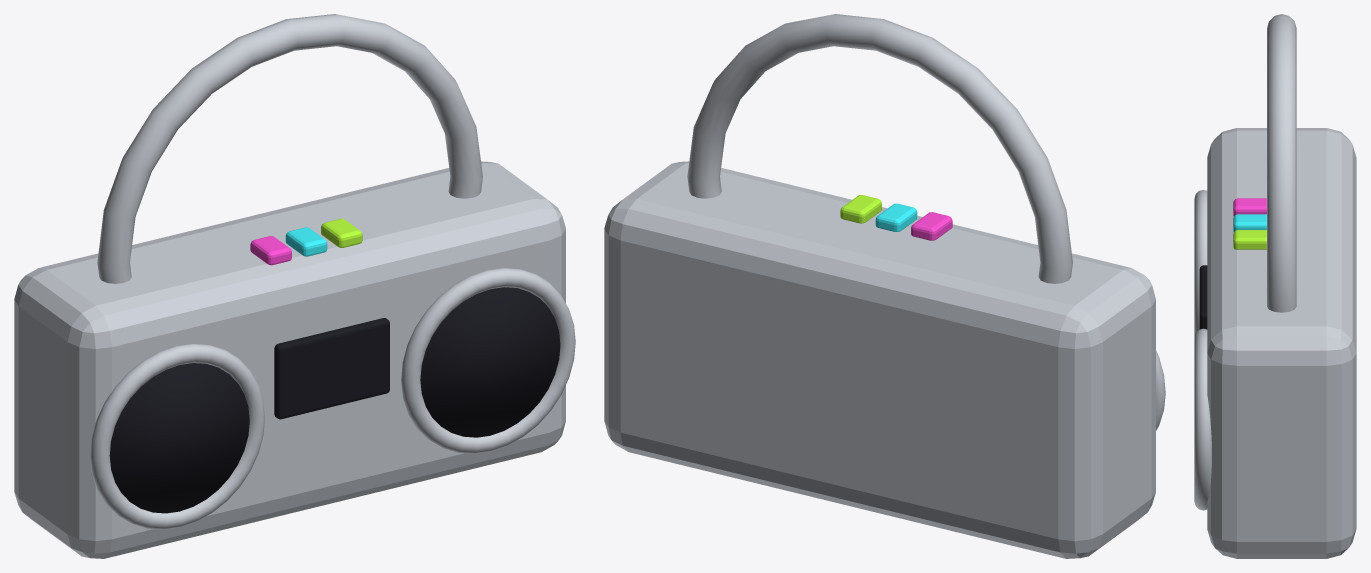
The model's file is Tech_Boombox.fbx.
3 renders of one model, left to right at view 1: azimuth 30°, elevation 25°; view 2: azimuth 150°, elevation 25°; view 3: azimuth 270°, elevation 25°, orthographic. The views are drawn at different scales.
Visible parts, largest first — view 1: Tech_Boombox; view 2: Tech_Boombox; view 3: Tech_Boombox.
Part boxes in pixels (left/top/right/bottom): Tech_Boombox: left=14, top=14, right=575, bottom=558; Tech_Boombox: left=604, top=14, right=1165, bottom=558; Tech_Boombox: left=1194, top=14, right=1356, bottom=558.
Bounding box in the file's own units: 0.7 × 0.63 × 0.217.
